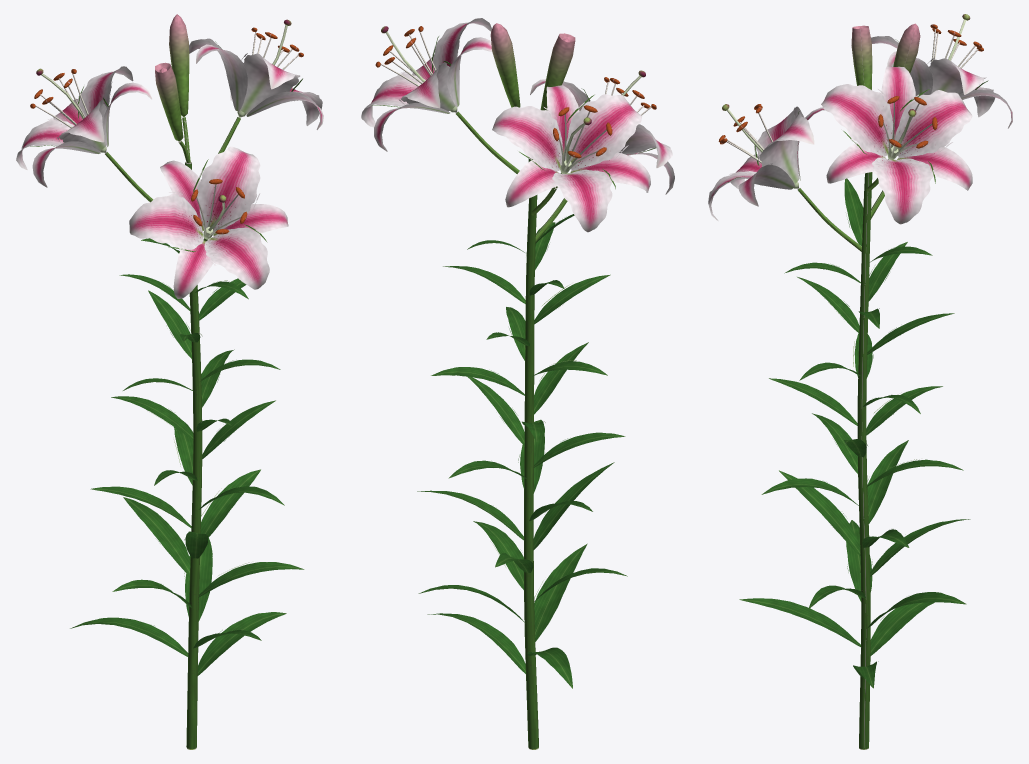
Rendered from lily-lirio-flower-oriental-lily-stem (1).glb.
3 views of the same model, side by side, from view 1: azimuth 30°, elevation 25°; view 2: azimuth 150°, elevation 25°; view 3: azimuth 270°, elevation 25° (orthographic). The views are drawn at different scales.
Parts seen in each view (by area): view 1: Lily tepals (two-layer) and leaves (alpha-cut), Lily stem, pedicels, buds, stamens and pistils; view 2: Lily tepals (two-layer) and leaves (alpha-cut), Lily stem, pedicels, buds, stamens and pistils; view 3: Lily tepals (two-layer) and leaves (alpha-cut), Lily stem, pedicels, buds, stamens and pistils.
Boxes of the visible parts, x1,y1,x2,y2 form: Lily tepals (two-layer) and leaves (alpha-cut): (16,38,323,675); Lily stem, pedicels, buds, stamens and pistils: (30,14,303,749); Lily tepals (two-layer) and leaves (alpha-cut): (361,18,674,688); Lily stem, pedicels, buds, stamens and pistils: (375,23,656,749); Lily tepals (two-layer) and leaves (alpha-cut): (708,36,1012,688); Lily stem, pedicels, buds, stamens and pistils: (718,14,983,749).
Size of the model in its own units: 0.3229 by 0.7831 by 0.3004.
Materials: 2 (2 with a texture image).
